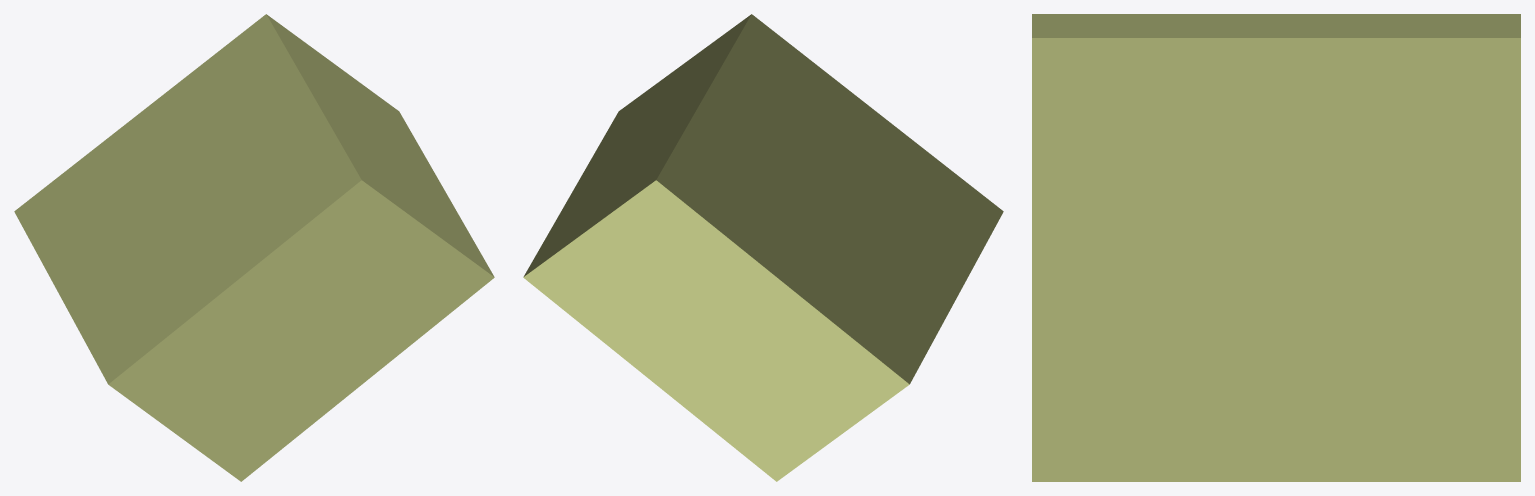
3 renders of one model, left to right at view 1: azimuth 30°, elevation 25°; view 2: azimuth 150°, elevation 25°; view 3: azimuth 270°, elevation 25°, orthographic. The views are drawn at different scales.
Visible parts, largest first — view 1: 0_2_0_1_1_1_1_1_1_1; view 2: 0_2_0_1_1_1_1_1_1_1; view 3: 0_2_0_1_1_1_1_1_1_1.
Boxes of the visible parts, x1=… form: 0_2_0_1_1_1_1_1_1_1: x1=14, y1=14, x2=494, y2=481; 0_2_0_1_1_1_1_1_1_1: x1=523, y1=14, x2=1003, y2=481; 0_2_0_1_1_1_1_1_1_1: x1=1032, y1=14, x2=1520, y2=481.
Bounding box in the file's own units: 9.05 × 8.26 × 6.
